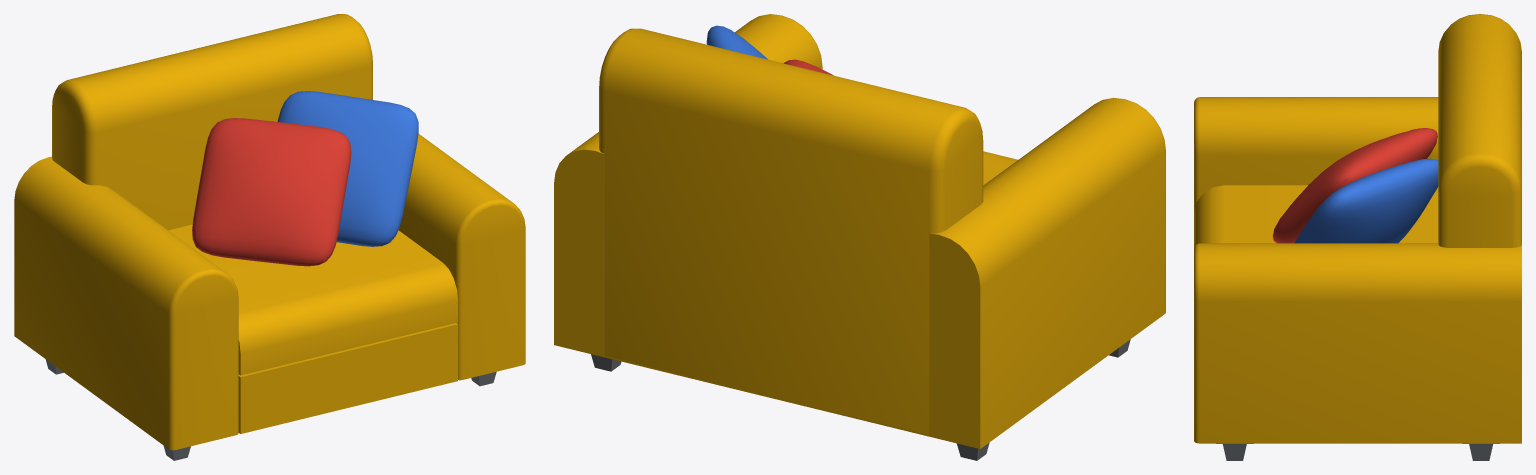
File: sofa_2.glb
3 renders of one model, left to right at view 1: azimuth 30°, elevation 25°; view 2: azimuth 150°, elevation 25°; view 3: azimuth 270°, elevation 25°, orthographic. The views are drawn at different scales.
Visible parts, largest first — view 1: ChairB_Cube.001; view 2: ChairB_Cube.001; view 3: ChairB_Cube.001.
Boxes of the visible parts, left/top/right/bottom form: ChairB_Cube.001: left=14, top=14, right=525, bottom=460; ChairB_Cube.001: left=554, top=14, right=1165, bottom=460; ChairB_Cube.001: left=1194, top=14, right=1521, bottom=460.
Size of the model in its own units: 2.62 by 1.99 by 2.
